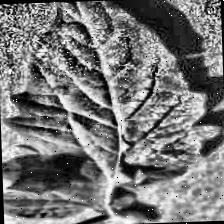disease: (0, 0, 222, 220)
